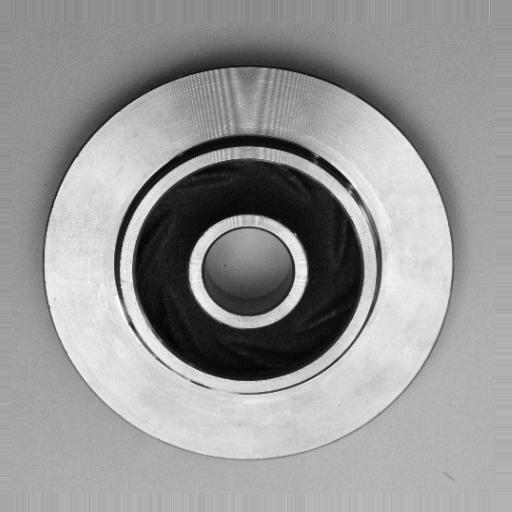unpolished_casting: (42, 63, 458, 464)
